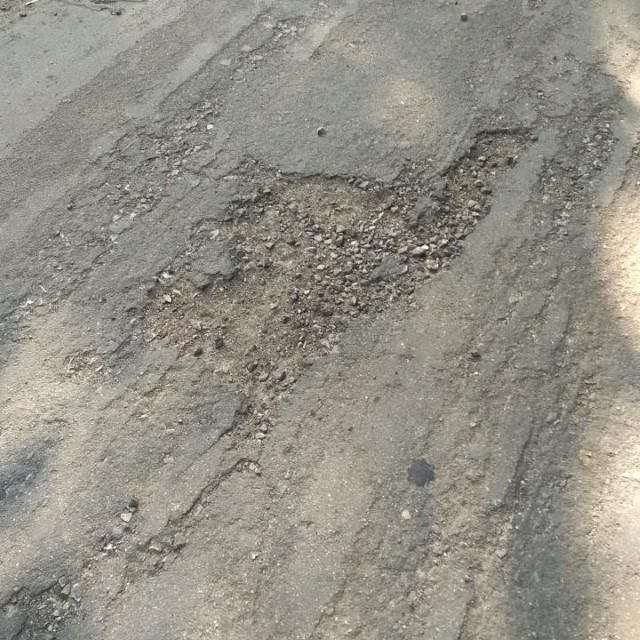Pothole: (64, 132, 539, 441)
